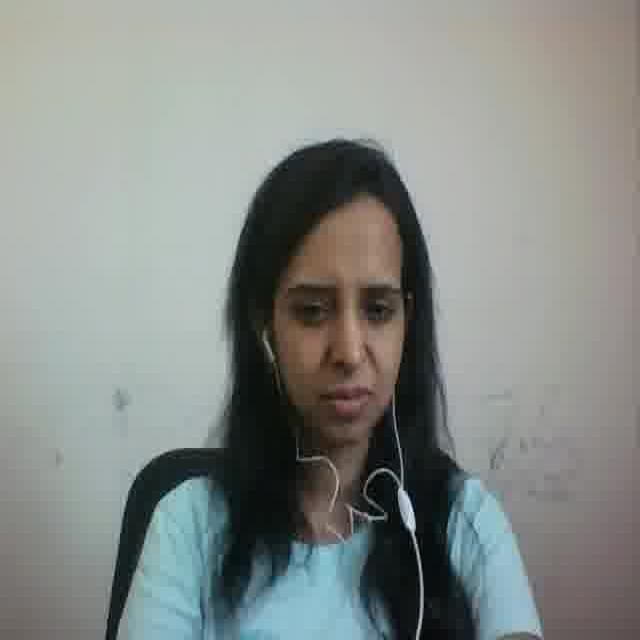Frustration: (270, 214, 403, 446)
